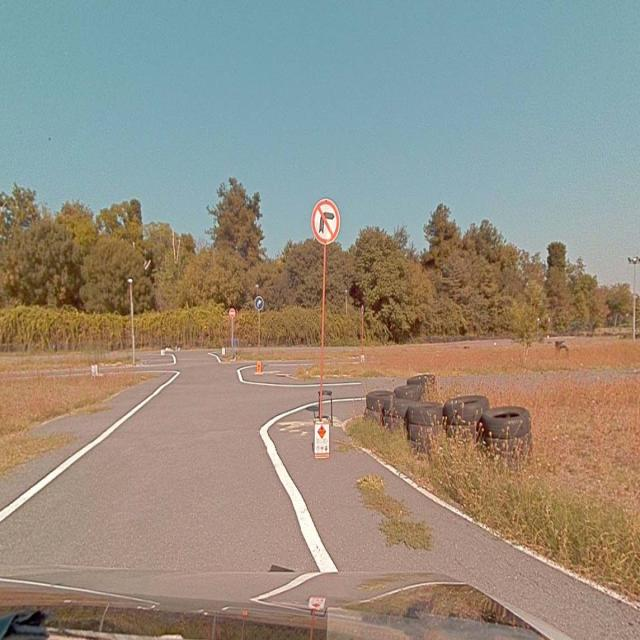girisyok: (230, 308, 236, 318)
sag: (255, 297, 264, 310)
sagadonulmez: (312, 197, 341, 243)
